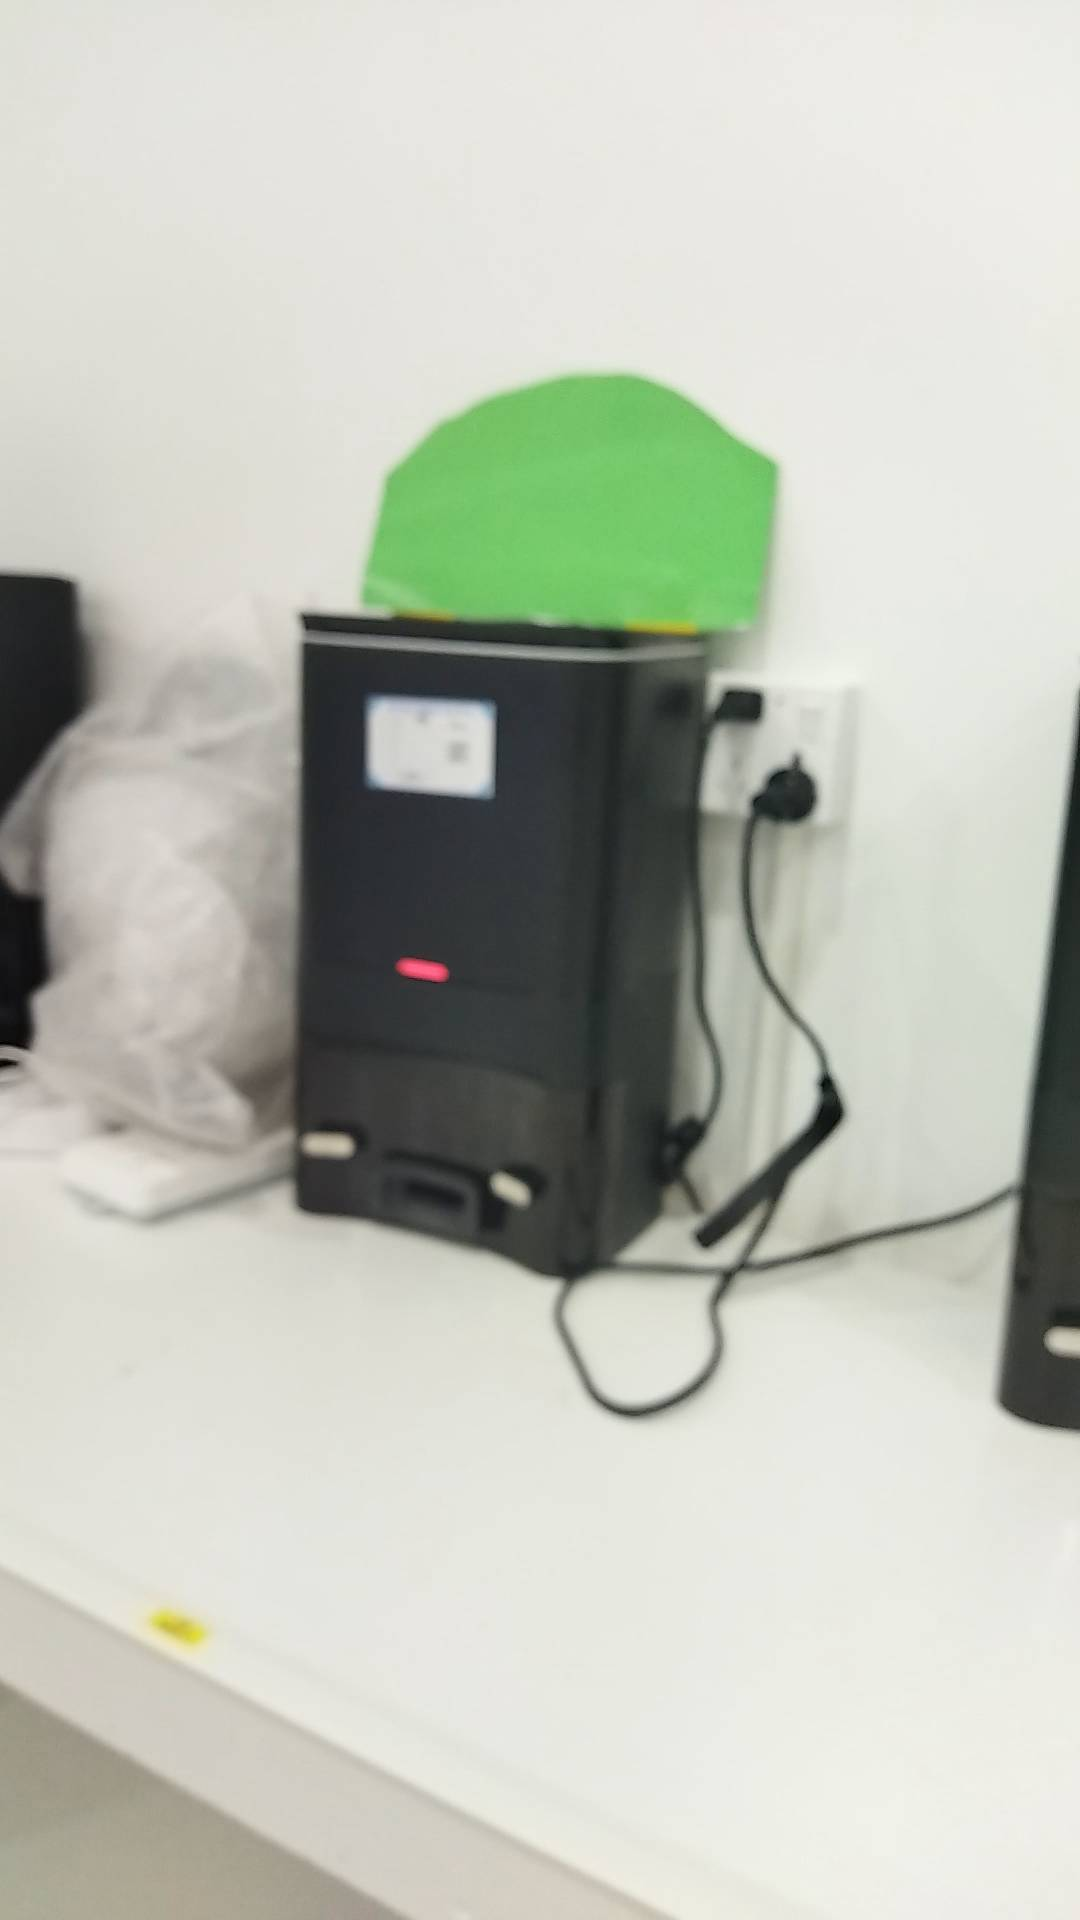dust collecting barrel: (290, 613, 716, 1278)
